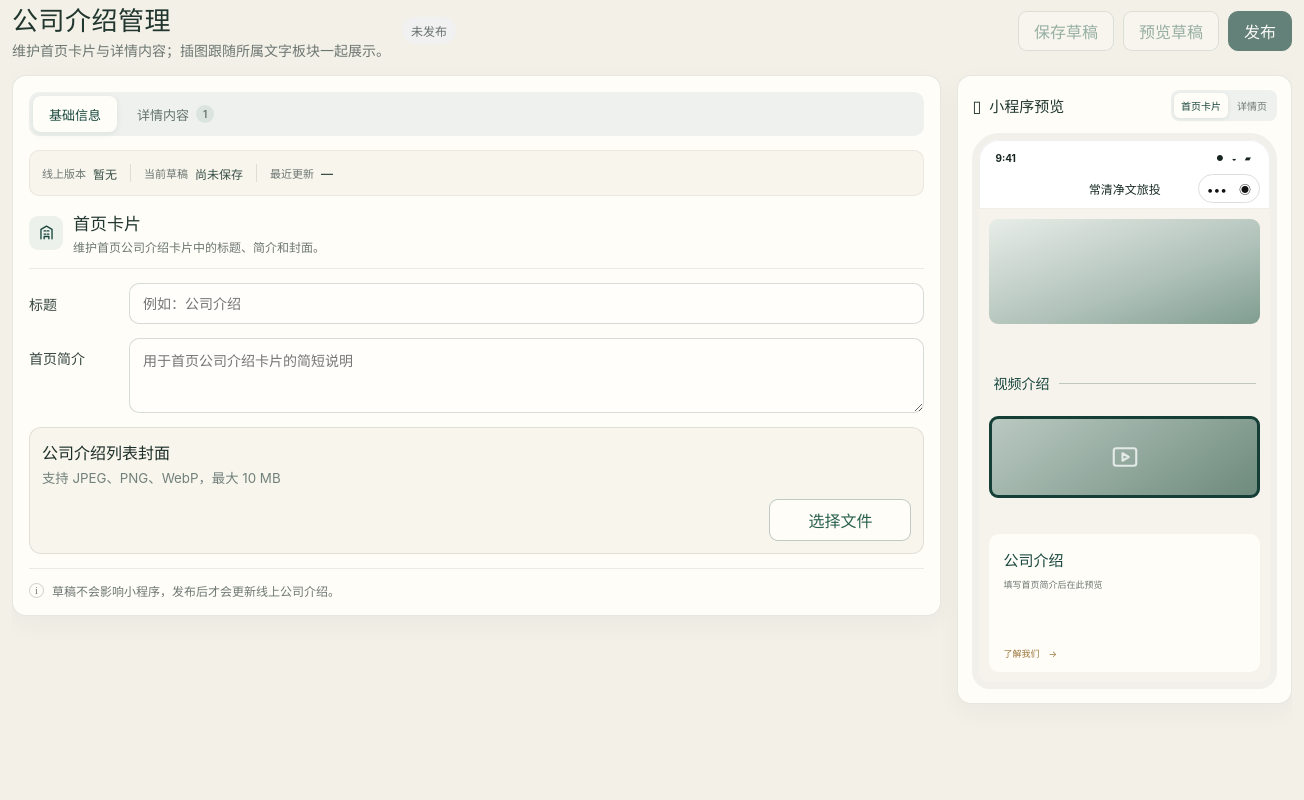
Scenario: ContentPage › blocks navigation while edits have not been saved
Check: the text "尚未保存" is shown, box top-left (195, 165), bottom-right (243, 182)
In the field labelled "标题": (527, 304) top-left (129, 283), bottom-right (924, 324), type "尚未保存的标题"
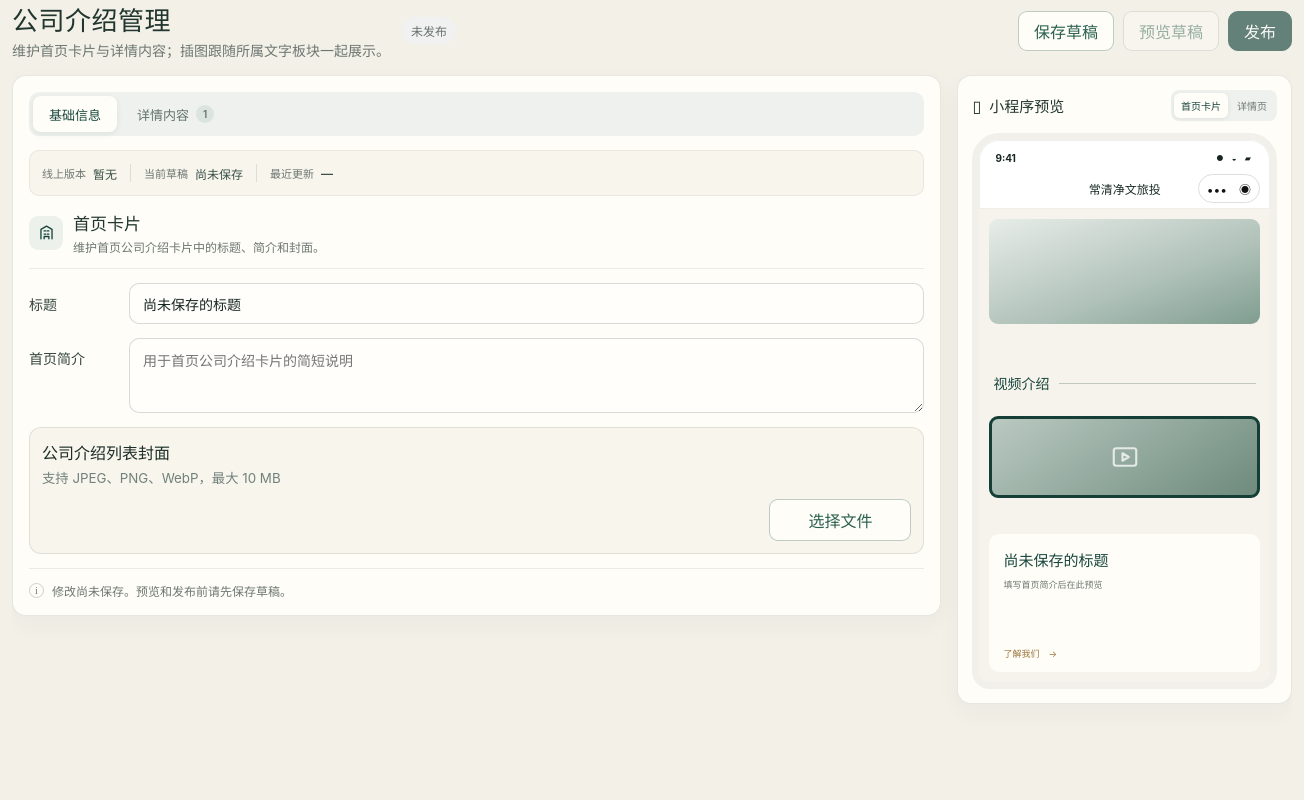
Check: the text "修改尚未保存。预览和发布前请先保存草稿。" is shown, box top-left (52, 584), bottom-right (292, 599)
